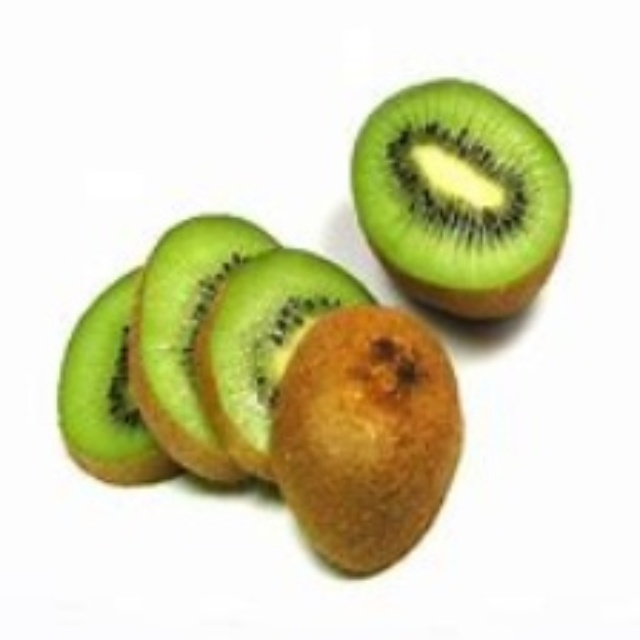kiwi: (65, 225, 454, 578), (344, 71, 572, 322)
